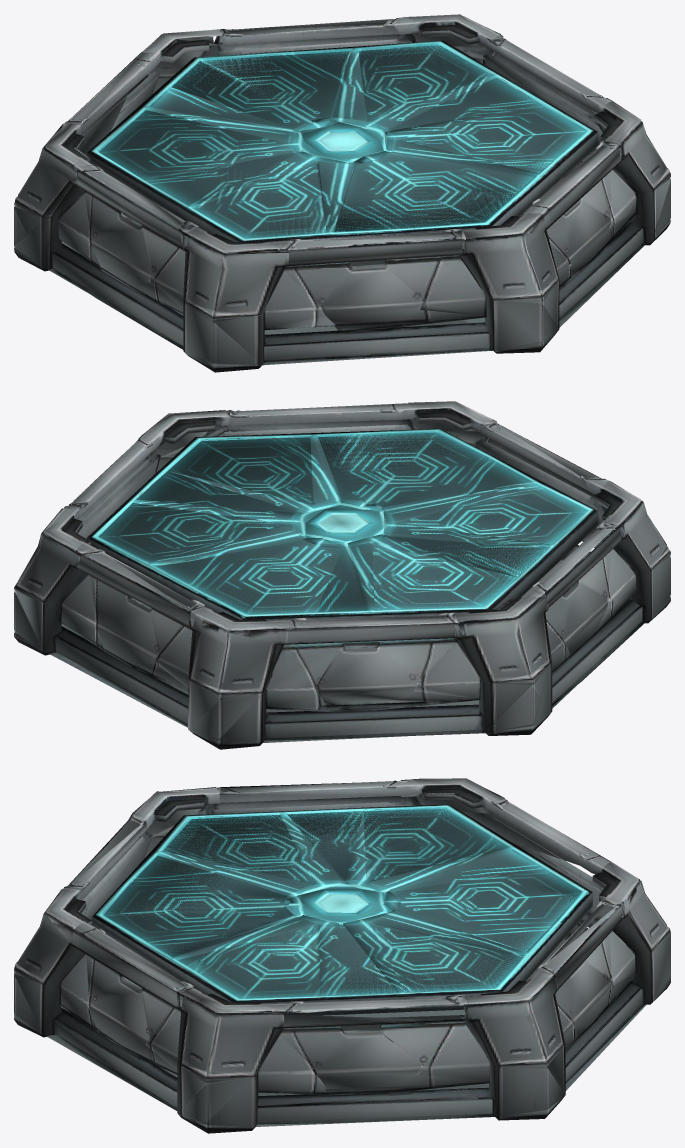
The model's file is selected.glb.
The picture shows the model from 3 angles, top to bottom: view 1: azimuth 30°, elevation 25°; view 2: azimuth 150°, elevation 25°; view 3: azimuth 270°, elevation 25°; orthographic projection. The views are drawn at different scales.
Visible parts, largest first — view 1: tripo_node_e4cd59b4-f765-4cff-9ec3-1ec609288ab3; view 2: tripo_node_e4cd59b4-f765-4cff-9ec3-1ec609288ab3; view 3: tripo_node_e4cd59b4-f765-4cff-9ec3-1ec609288ab3.
Part boxes in pixels (box(x1,y1,x2,y2)): tripo_node_e4cd59b4-f765-4cff-9ec3-1ec609288ab3: box(14, 14, 670, 372); tripo_node_e4cd59b4-f765-4cff-9ec3-1ec609288ab3: box(14, 401, 670, 749); tripo_node_e4cd59b4-f765-4cff-9ec3-1ec609288ab3: box(14, 778, 670, 1133).
Size of the model in its own units: 0.9238 by 0.1895 by 0.998.
Materials: 1 (1 with a texture image).
